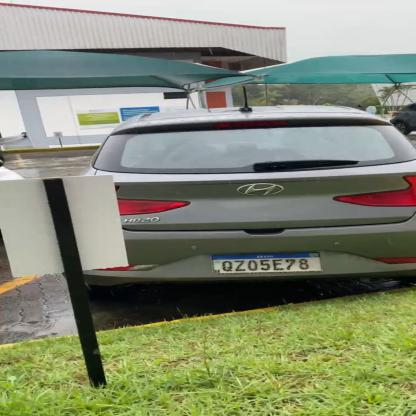Plate: (212, 250, 324, 274)
